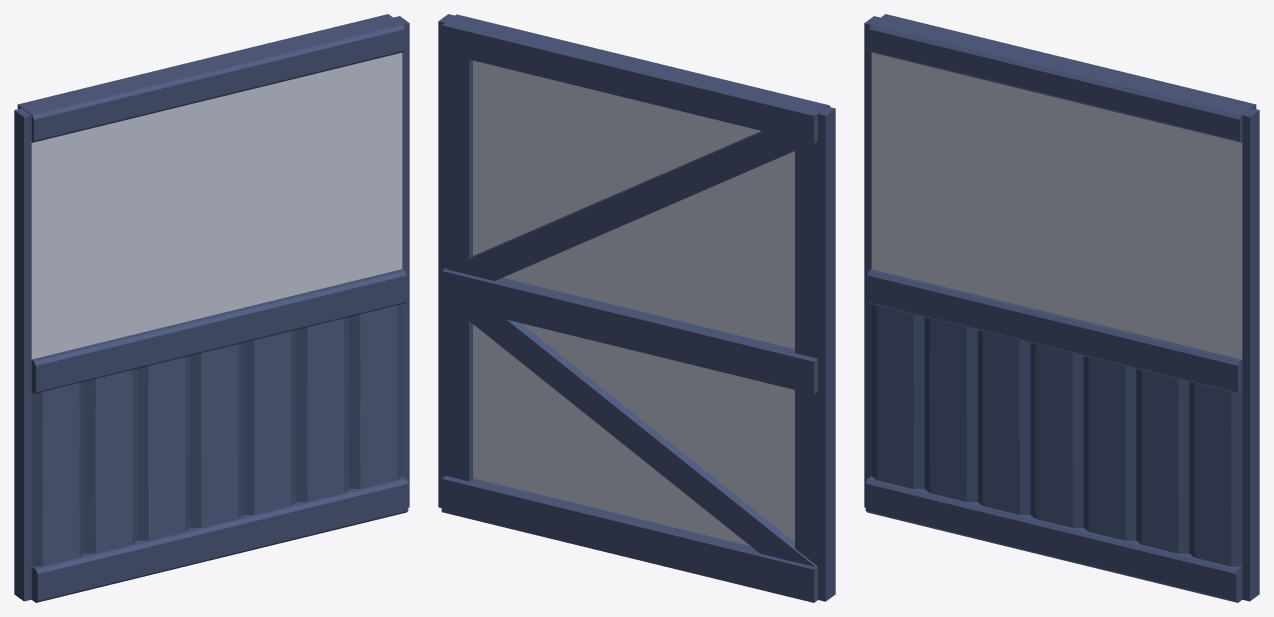
File: wall_01.fbx
3 views of the same model, side by side, from view 1: azimuth 30°, elevation 25°; view 2: azimuth 150°, elevation 25°; view 3: azimuth 330°, elevation 25° (orthographic).
Visible parts, largest first — view 1: wall_white_1, botton_blue_wall_1, top_colum_wall_1, bottom_column_wall_1, half_colum_wall_1, lateral_columns_wall_1; view 2: wall_white_1, lateral_columns_wall_1, top_colum_wall_1, bottom_column_wall_1, half_colum_wall_1, suuport_wall_1, support_wall_1-1; view 3: wall_white_1, botton_blue_wall_1, top_colum_wall_1, bottom_column_wall_1, half_colum_wall_1, lateral_columns_wall_1.
Boxes of the visible parts, x1,y1,x2,y2 form: wall_white_1: (31,52,402,359); botton_blue_wall_1: (31,304,402,566); top_colum_wall_1: (17,14,404,142); bottom_column_wall_1: (31,476,408,602); half_colum_wall_1: (31,269,406,393); lateral_columns_wall_1: (14,16,409,601); wall_white_1: (473,60,794,545); lateral_columns_wall_1: (438,14,835,601); top_colum_wall_1: (441,14,830,143); bottom_column_wall_1: (441,476,817,602); half_colum_wall_1: (441,268,817,394); suuport_wall_1: (451,306,816,566); support_wall_1-1: (446,131,811,280); wall_white_1: (871,52,1242,359); botton_blue_wall_1: (871,304,1242,566); top_colum_wall_1: (869,14,1256,142); bottom_column_wall_1: (865,476,1242,602); half_colum_wall_1: (867,269,1242,393); lateral_columns_wall_1: (864,16,1259,601).
Bounding box in the file's own units: 208 × 250 × 18.81.
Materials: 1 (1 with a texture image).
